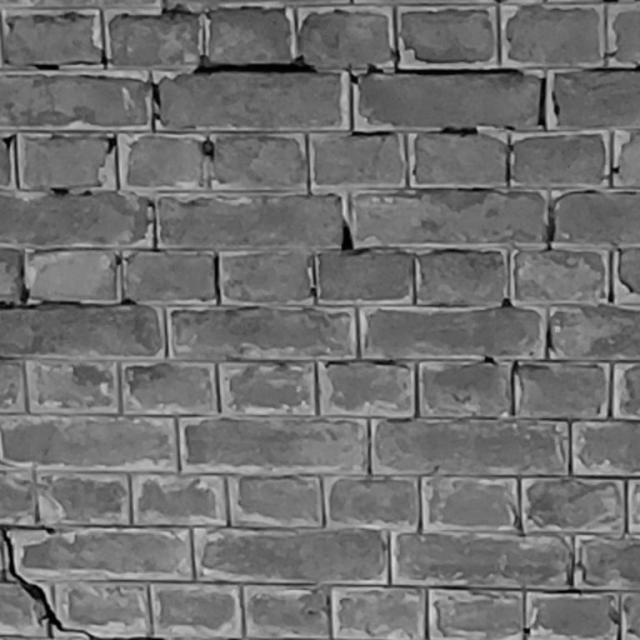crack: (1, 523, 94, 640)
